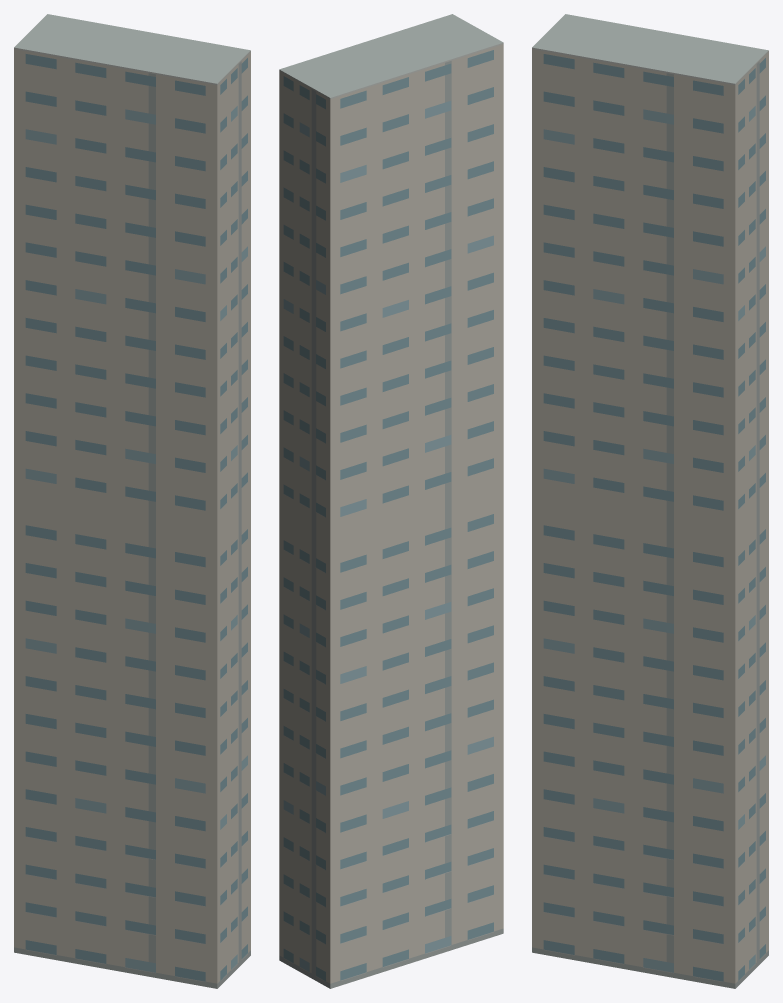
The model's file is residential-274ee019-d198-4187-9ab7-9d4129bee919.glb.
The picture shows the model from 3 angles, left to right: view 1: azimuth 90°, elevation 25°; view 2: azimuth 150°, elevation 25°; view 3: azimuth 270°, elevation 25°; orthographic projection.
Parts seen in each view (by area): view 1: residential-274ee019-d198-4187-9ab7-9d4129bee919.tmp; view 2: residential-274ee019-d198-4187-9ab7-9d4129bee919.tmp; view 3: residential-274ee019-d198-4187-9ab7-9d4129bee919.tmp.
Boxes of the visible parts, box(x1,y1,x2,y2) form: residential-274ee019-d198-4187-9ab7-9d4129bee919.tmp: box(14, 14, 250, 988); residential-274ee019-d198-4187-9ab7-9d4129bee919.tmp: box(279, 14, 503, 988); residential-274ee019-d198-4187-9ab7-9d4129bee919.tmp: box(532, 14, 768, 988).
Bounding box in the file's own units: 24.18 × 146 × 34.64.
